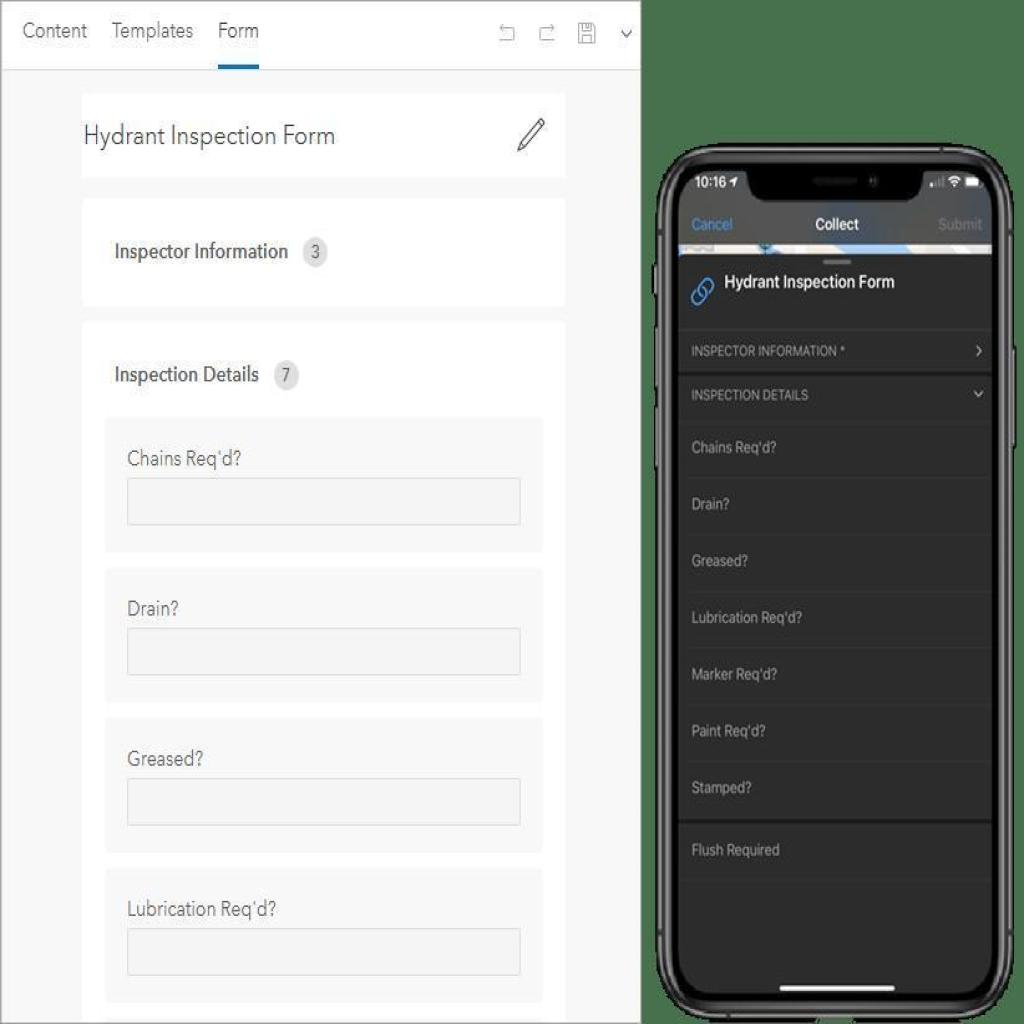checkbox: (680, 374, 993, 420)
icon: (514, 108, 547, 158), (689, 269, 716, 309), (536, 18, 559, 51), (574, 20, 599, 48), (497, 20, 518, 48)
input: (126, 624, 521, 682), (126, 926, 523, 982), (125, 775, 523, 829), (124, 476, 524, 527)
label: (110, 232, 292, 266), (124, 894, 278, 924), (114, 360, 260, 388), (127, 444, 247, 470), (126, 742, 205, 770), (123, 595, 182, 623)
